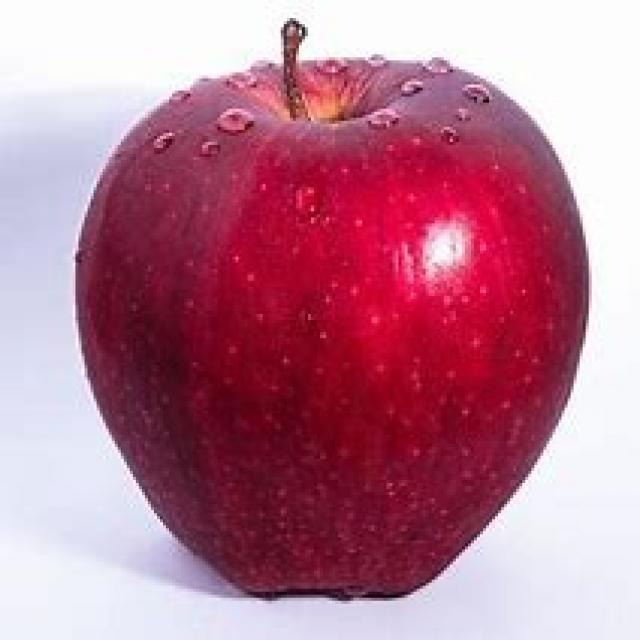apple: (68, 30, 591, 606)
